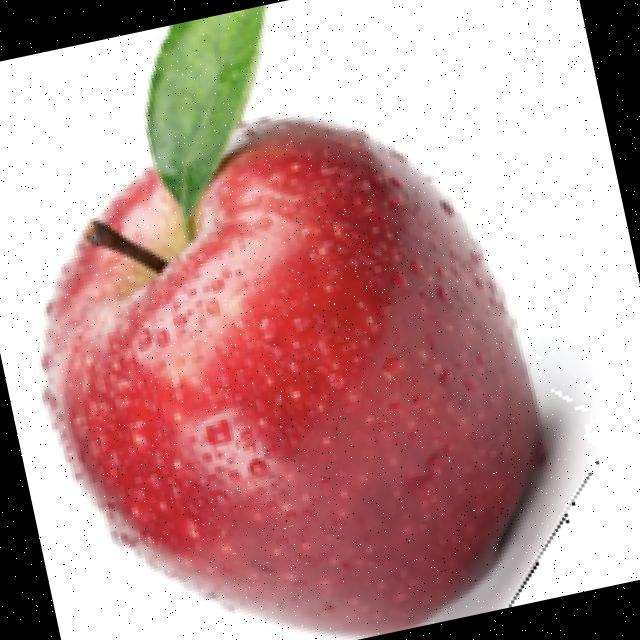apple: (34, 4, 599, 640)
